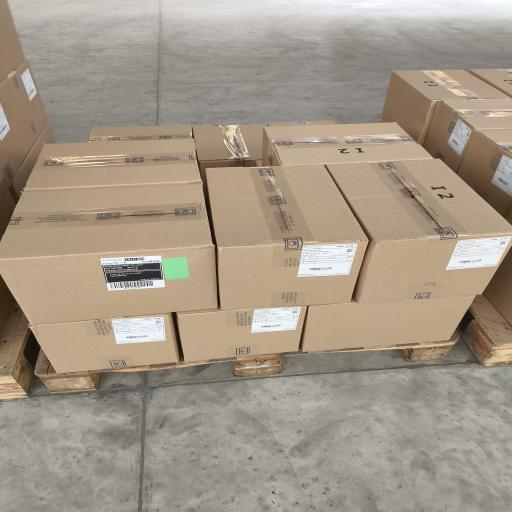pallet: (36, 333, 458, 393), (461, 296, 511, 366), (0, 303, 34, 399), (35, 350, 99, 393), (402, 332, 458, 361)
